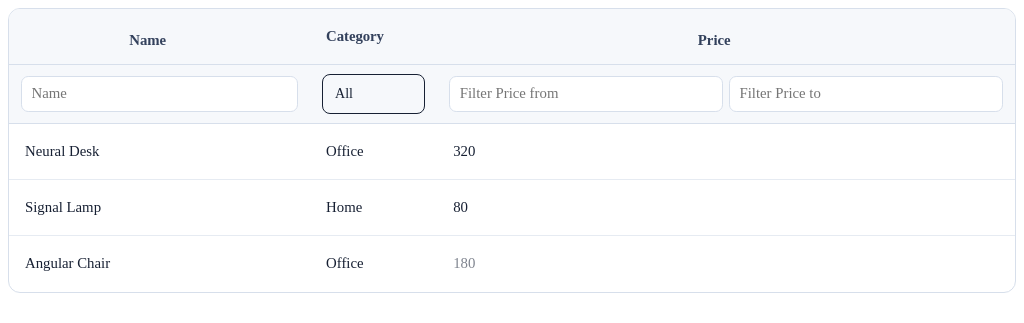
Test: TableComponent › keeps an invalid async cell draft open with an accessible error
The width and height of the screenshot is (1024, 323).
Click the cell "Neural Desk" at [160, 152], box top-left (9, 124), bottom-right (310, 180)
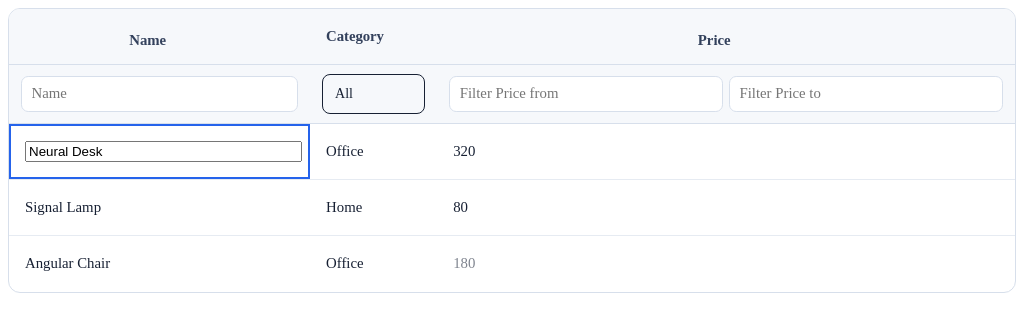
Press Enter in the field with class "name-editor", box top-left (25, 141), bottom-right (302, 162)
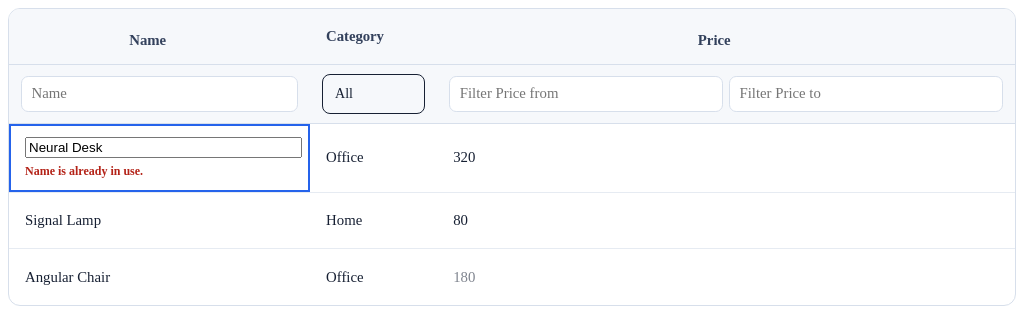
Expected: the field with class "name-editor" is shown, top-left (25, 137), bottom-right (302, 158)
Expected: the message "Name is already in use." is shown, top-left (25, 164), bottom-right (143, 178)
